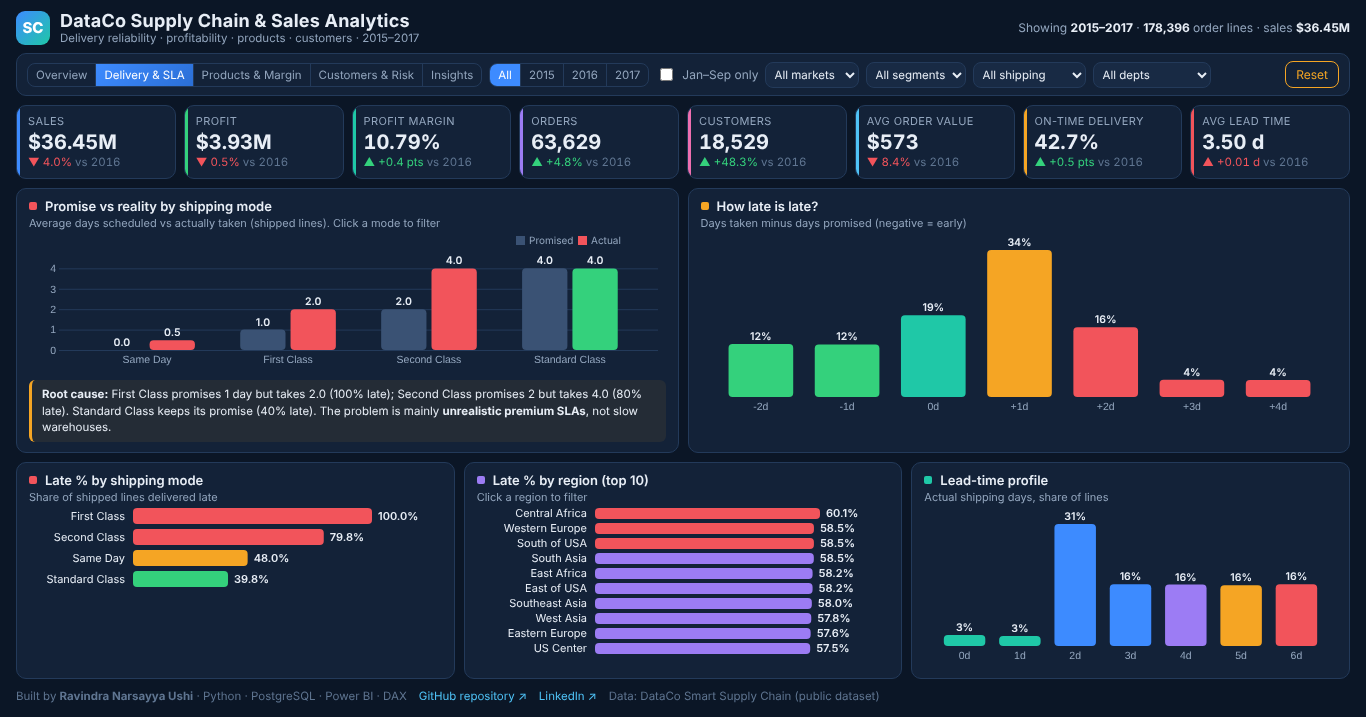

Layout of this report page (visuals, bound fields, positions):
{"tool":"powerbi","page":{"name":"Delivery & Operations","canvas":[1920,1080],"ordinal":2},"visuals":[{"type":"textbox","box":[488,0,940.8,83.2],"z":0},{"type":"group","id":"g1","title":"Group 10","box":[0,88.7,179.2,980],"z":0,"group":"g2"},{"type":"shape","box":[0,88.7,178.7,980],"z":500,"group":"g1"},{"type":"textbox","box":[535.5,42.7,849.1,40.5],"z":1000},{"type":"image","box":[6.4,275.2,50,40],"z":1000,"group":"g2"},{"type":"image","box":[0,0,264.5,83.2],"z":2000},{"type":"slicer","fields":{"Values":["DateTable.Date"]},"box":[1612.4,100,292,100],"z":2000},{"type":"image","box":[4.3,192,40,50],"z":2000,"group":"g2"},{"type":"image","box":[1578.7,0,341.3,93.9],"z":3000},{"type":"image","box":[6.4,358.4,40,50],"z":3000,"group":"g2"},{"type":"clusteredBarChart","title":"Late Delivery by Shipping Mode","fields":{"Category":["public dataco_raw.Shipping Mode"],"Y":["public dataco_raw.Late Delivery %"]},"box":[195.7,221.4,500,600],"z":4000},{"type":"image","box":[6.4,439.5,40,50],"z":4000,"group":"g2"},{"type":"clusteredBarChart","title":"Actual vs Scheduled Shipping Days","fields":{"Category":["public dataco_raw.Shipping Mode"],"Y":["Avg(public dataco_raw.Days for shipping (real))","Avg(public dataco_raw.Days for shipment (scheduled))"]},"box":[717.1,221.4,630,600],"z":5000},{"type":"image","box":[10.7,514.2,40,50],"z":5000,"group":"g2"},{"type":"clusteredColumnChart","title":"Shipping Delay Variance by Mode","fields":{"Category":["public dataco_raw.Shipping Mode"],"Y":["public dataco_raw.Shipping Delay Variance"]},"box":[1376,222,500,600],"z":6000},{"type":"group","id":"g2","title":"Group 11","box":[0,88.7,179.2,980],"z":8000},{"type":"pageNavigator","box":[0,176.9,179.2,475.7],"z":22000,"group":"g1"},{"type":"cardVisual","fields":{"Data":["Sum(public dataco_raw.Sales)"]},"box":[195.7,106.6,193,85],"z":31000},{"type":"cardVisual","fields":{"Data":["Sum(public dataco_raw.Order Profit Per Order)"]},"box":[402.4,106.6,193,85],"z":33000},{"type":"cardVisual","fields":{"Data":["Count(public dataco_raw.Order Id)"]},"box":[605.7,106.6,193,85],"z":35000},{"type":"cardVisual","fields":{"Data":["Count(public dataco_raw.Customer Id)"]},"box":[808.7,106.6,193,85],"z":37000},{"type":"cardVisual","fields":{"Data":["public dataco_raw.AOV"]},"box":[1010.7,106.6,193,85],"z":39000},{"type":"cardVisual","fields":{"Data":["public dataco_raw.Profit Margin"]},"box":[1214,106.6,193,85.7],"z":41000},{"type":"cardVisual","fields":{"Data":["public dataco_raw.Late Delivery %"]},"box":[1414,106.6,193,85.7],"z":44000}]}

Visuals, with their boxes on the page's 1920x1080 design canvas (x1, y1, x2, y2). These are canvas units, not pixel positions in the 1366x717 screenshot, which may show the page scaled, cropped or inside an application window:
textbox: <bbox>488, 0, 1429, 83</bbox>
"Group 10" group: <bbox>0, 89, 179, 1069</bbox>
shape: <bbox>0, 89, 179, 1069</bbox>
textbox: <bbox>536, 43, 1385, 83</bbox>
image: <bbox>6, 275, 56, 315</bbox>
image: <bbox>0, 0, 264, 83</bbox>
slicer - DateTable.Date: <bbox>1612, 100, 1904, 200</bbox>
image: <bbox>4, 192, 44, 242</bbox>
image: <bbox>1579, 0, 1920, 94</bbox>
image: <bbox>6, 358, 46, 408</bbox>
"Late Delivery by Shipping Mode" clusteredBarChart: <bbox>196, 221, 696, 821</bbox>
image: <bbox>6, 440, 46, 490</bbox>
"Actual vs Scheduled Shipping Days" clusteredBarChart: <bbox>717, 221, 1347, 821</bbox>
image: <bbox>11, 514, 51, 564</bbox>
"Shipping Delay Variance by Mode" clusteredColumnChart: <bbox>1376, 222, 1876, 822</bbox>
"Group 11" group: <bbox>0, 89, 179, 1069</bbox>
pageNavigator: <bbox>0, 177, 179, 653</bbox>
cardVisual - Sum(public dataco_raw.Sales): <bbox>196, 107, 389, 192</bbox>
cardVisual - Sum(public dataco_raw.Order Profit Per Order): <bbox>402, 107, 595, 192</bbox>
cardVisual - Count(public dataco_raw.Order Id): <bbox>606, 107, 799, 192</bbox>
cardVisual - Count(public dataco_raw.Customer Id): <bbox>809, 107, 1002, 192</bbox>
cardVisual - public dataco_raw.AOV: <bbox>1011, 107, 1204, 192</bbox>
cardVisual - public dataco_raw.Profit Margin: <bbox>1214, 107, 1407, 192</bbox>
cardVisual - public dataco_raw.Late Delivery %: <bbox>1414, 107, 1607, 192</bbox>
